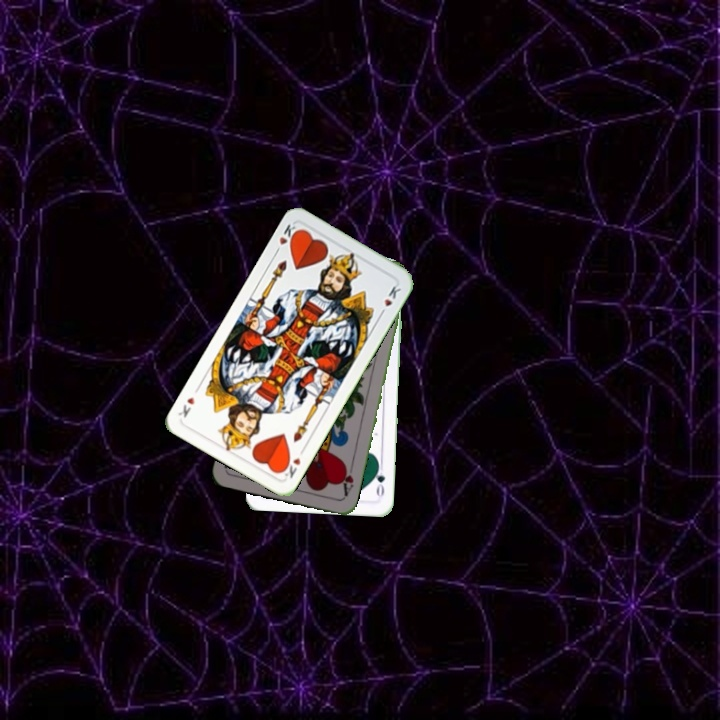GO: (371, 460, 387, 500)
HA: (337, 460, 356, 499)
HK: (276, 444, 308, 481), (271, 220, 302, 257)
